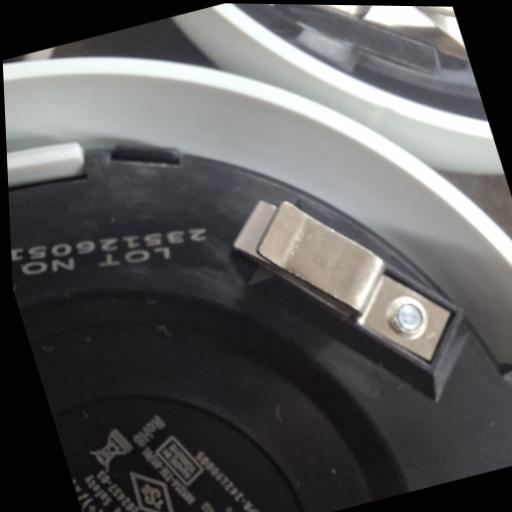yayli: (224, 162, 470, 402)
